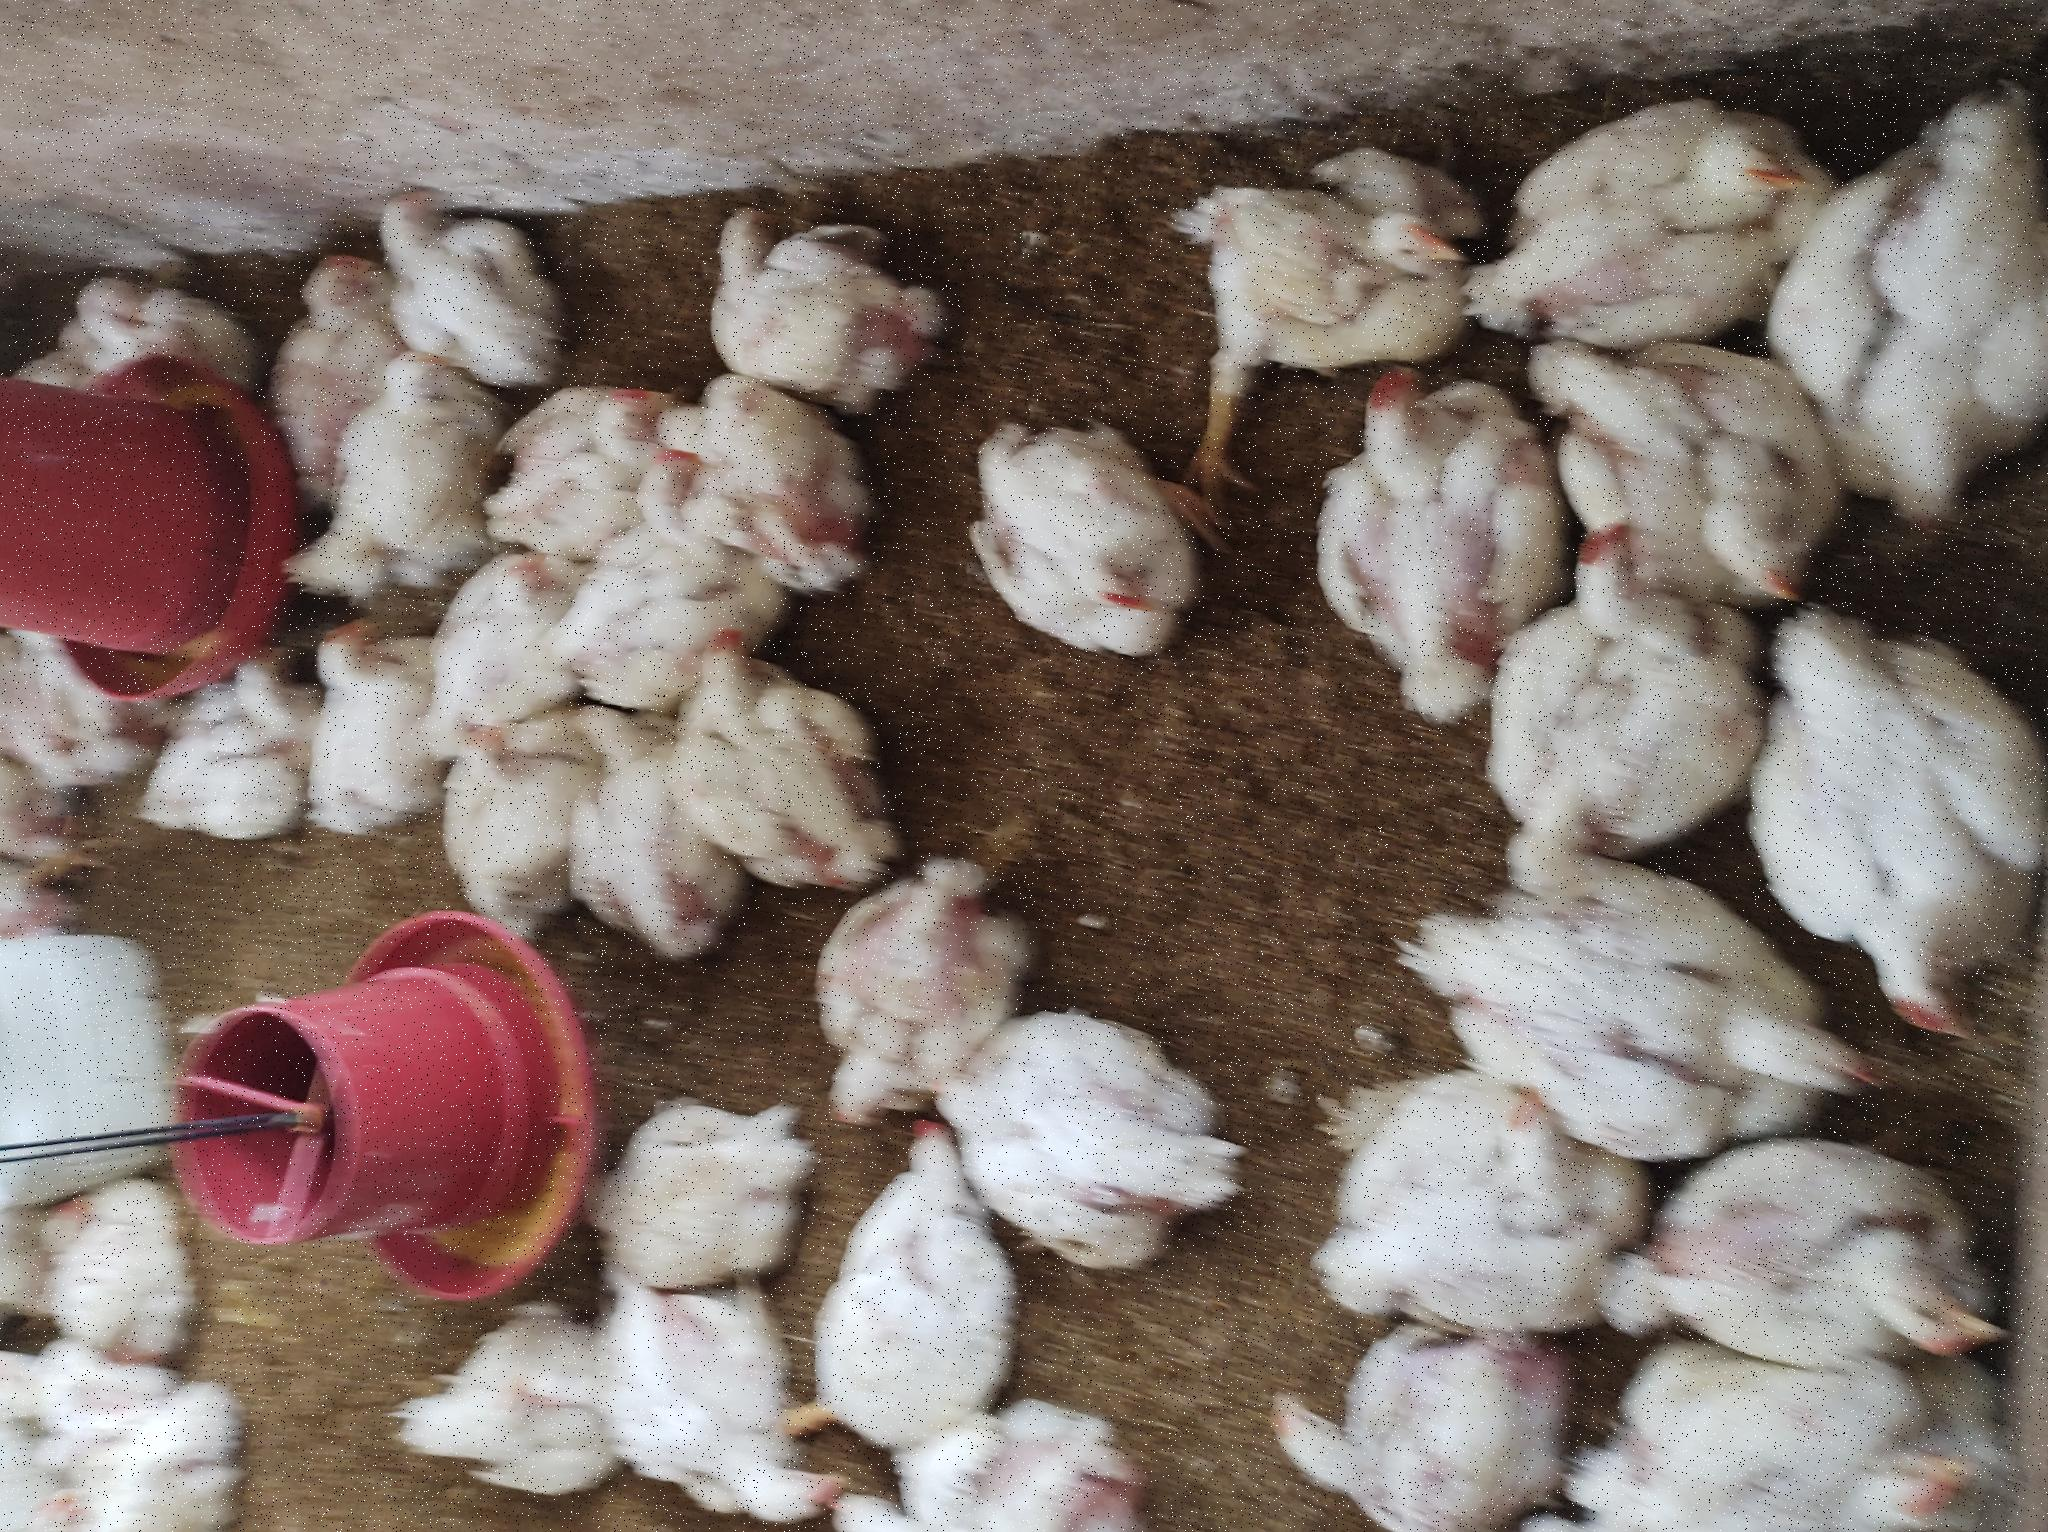Pollos: (1117, 1175, 1409, 1484), (269, 974, 524, 1247), (883, 1316, 1170, 1532), (402, 814, 697, 1023), (88, 792, 396, 991), (3, 1266, 232, 1532), (872, 970, 1123, 1212), (5, 592, 253, 827), (655, 695, 906, 892), (1163, 686, 1345, 948), (946, 293, 1179, 489), (219, 1329, 442, 1532), (39, 381, 241, 602), (2, 834, 138, 1157), (857, 549, 1089, 731), (251, 586, 438, 811), (948, 690, 1158, 874), (2, 27, 166, 243), (1182, 367, 1363, 563), (965, 463, 1163, 639), (692, 283, 899, 434), (697, 126, 883, 286), (584, 581, 825, 703), (635, 418, 811, 573), (187, 47, 359, 200), (385, 1443, 660, 1532), (1158, 63, 1281, 253), (1060, 275, 1289, 373), (912, 483, 994, 562)
